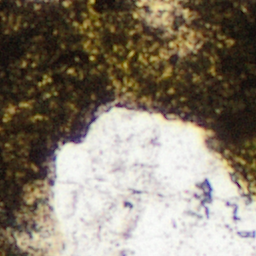cement_matrix: (0, 0, 255, 255), (173, 31, 196, 52), (198, 181, 211, 204)
gravel_crushed_stones: (14, 103, 255, 255), (138, 0, 185, 30), (174, 32, 195, 51), (197, 180, 212, 205)
